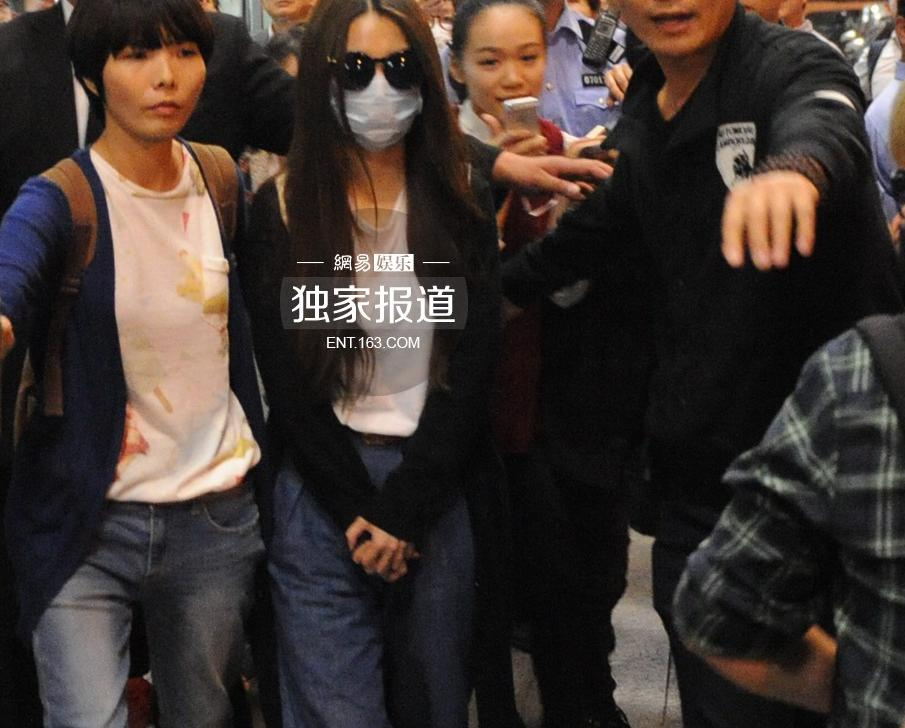NONE: (100, 44, 205, 136), (460, 40, 547, 127)
OK: (330, 53, 426, 153)
